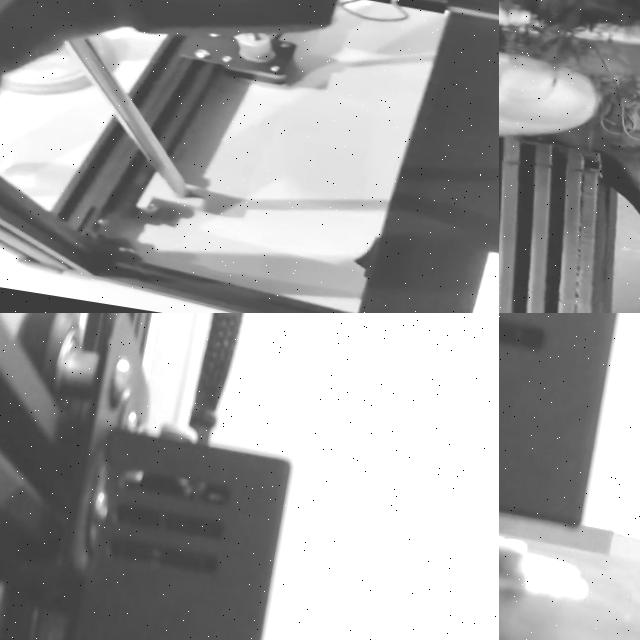spaghetti: (499, 0, 640, 145)
